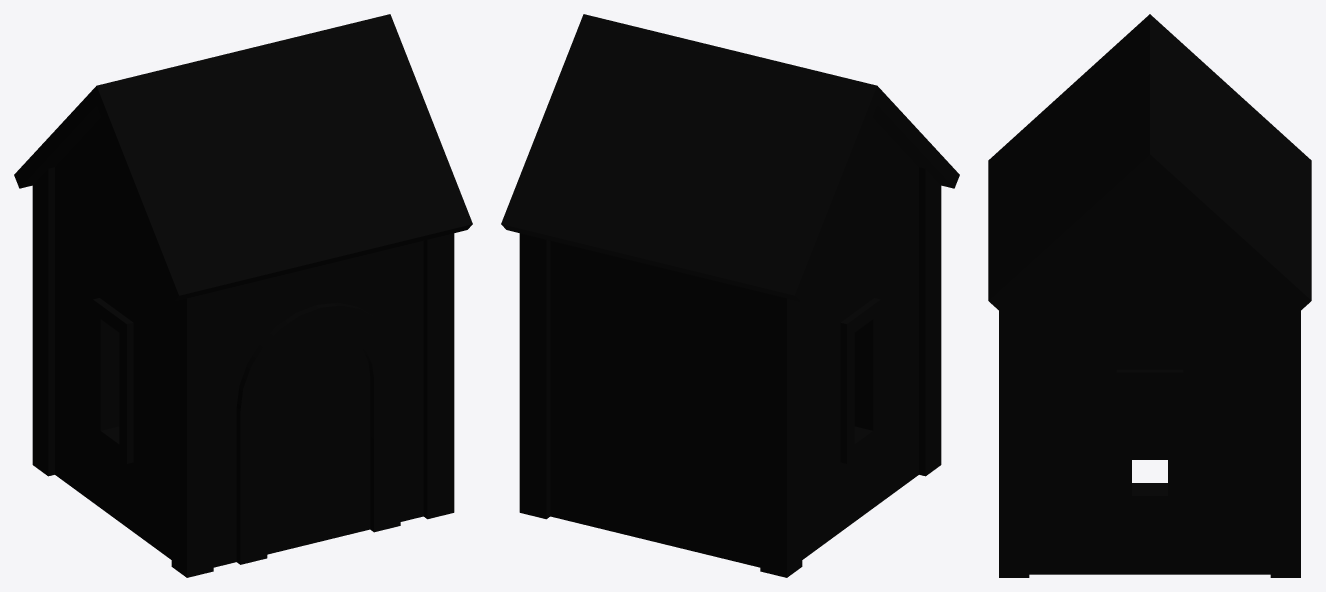
The model's file is house-cottage.glb.
The picture shows the model from 3 angles, left to right: view 1: azimuth 30°, elevation 25°; view 2: azimuth 150°, elevation 25°; view 3: azimuth 270°, elevation 25°; orthographic projection. The views are drawn at different scales.
Visible parts, largest first — view 1: wall-window-small; view 2: wall-window-small; view 3: wall-window-small.
Part boxes in pixels (x1,y1,x2,y2): wall-window-small: (14,14,472,577); wall-window-small: (501,14,959,577); wall-window-small: (988,14,1311,577).
Bounding box in the file's own units: 1.1 × 1.57 × 1.07.
1 material, 1 textured.
